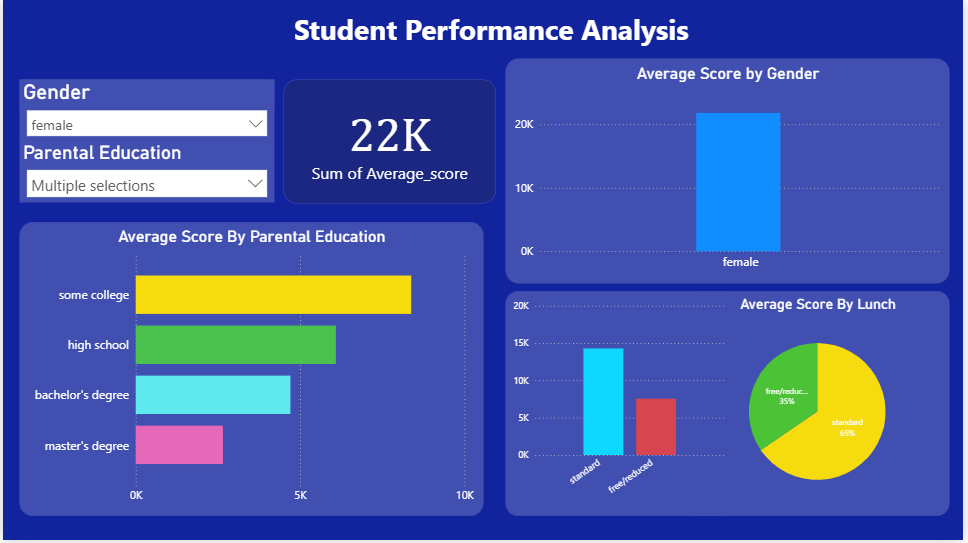

The dashboard page shown, as its layout file describes it:
{"tool":"powerbi","page":{"name":"Page 1","canvas":[1280,720],"ordinal":0},"visuals":[{"type":"pieChart","title":"Average Score By Lunch","fields":{"Y":["Sum(study_performance.Average_score)"],"Category":["study_performance.lunch"]},"box":[910,388,352,300],"z":0},{"type":"slicer","title":"Gender","fields":{"Values":["study_performance.gender"]},"box":[21.7,105,340,83.3],"z":1000},{"type":"columnChart","title":"Average Score by Gender","fields":{"Category":["study_performance.gender"],"Y":["Sum(study_performance.Average_score)"]},"box":[670,78,592,300],"z":2000},{"type":"card","fields":{"Values":["Sum(study_performance.Average_score)"]},"box":[373.3,105,283.3,165],"z":2500},{"type":"clusteredBarChart","title":"Average Score By Parental Education","fields":{"Y":["Sum(study_performance.Average_score)"],"Category":["study_performance.parental_level_of_education"]},"box":[21.7,296.7,618.3,391.7],"z":3000},{"type":"textbox","box":[22,8,1258,70],"z":5000},{"type":"slicer","title":"Parental Education","fields":{"Values":["study_performance.parental_level_of_education"]},"box":[21.7,188.3,340,81.7],"z":6000},{"type":"columnChart","fields":{"Category":["study_performance.lunch"],"Y":["Sum(study_performance.Average_score)"]},"box":[670,388.3,305,300],"z":8000}]}

Visuals, with their boxes in screenshot pixels (x1, y1, x2, y2), scaled from the page's 1280x720 canvas onto the 968x543 screenshot:
"Average Score By Lunch" pieChart: <bbox>688, 293, 954, 519</bbox>
"Gender" slicer: <bbox>16, 79, 274, 142</bbox>
"Average Score by Gender" columnChart: <bbox>507, 59, 954, 285</bbox>
card - Sum(study_performance.Average_score): <bbox>282, 79, 497, 204</bbox>
"Average Score By Parental Education" clusteredBarChart: <bbox>16, 224, 484, 519</bbox>
textbox: <bbox>17, 6, 967, 59</bbox>
"Parental Education" slicer: <bbox>16, 142, 274, 204</bbox>
columnChart - study_performance.lunch x Sum(study_performance.Average_score): <bbox>507, 293, 737, 519</bbox>
